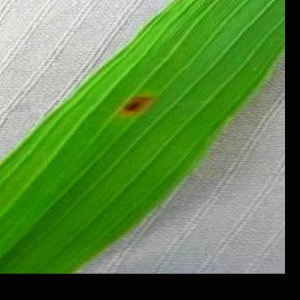Bacterial_Leaf_Blight: (115, 90, 159, 119)
